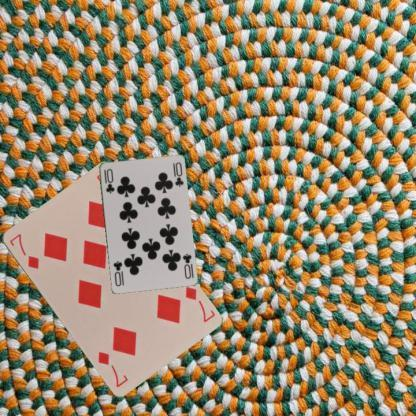10c: (101, 166, 116, 194), (180, 250, 192, 280)
7d: (6, 230, 40, 271), (182, 284, 216, 324)
